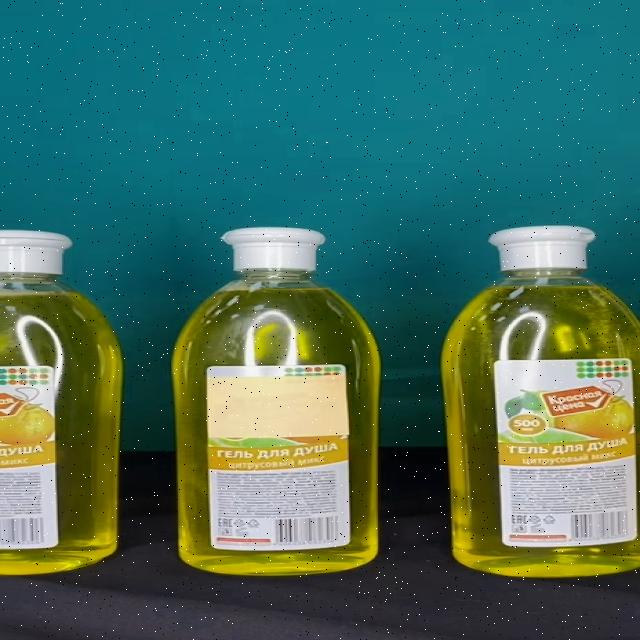Bottle: (170, 227, 382, 574), (441, 226, 640, 576)
Cap: (489, 226, 595, 271), (220, 228, 325, 270)
